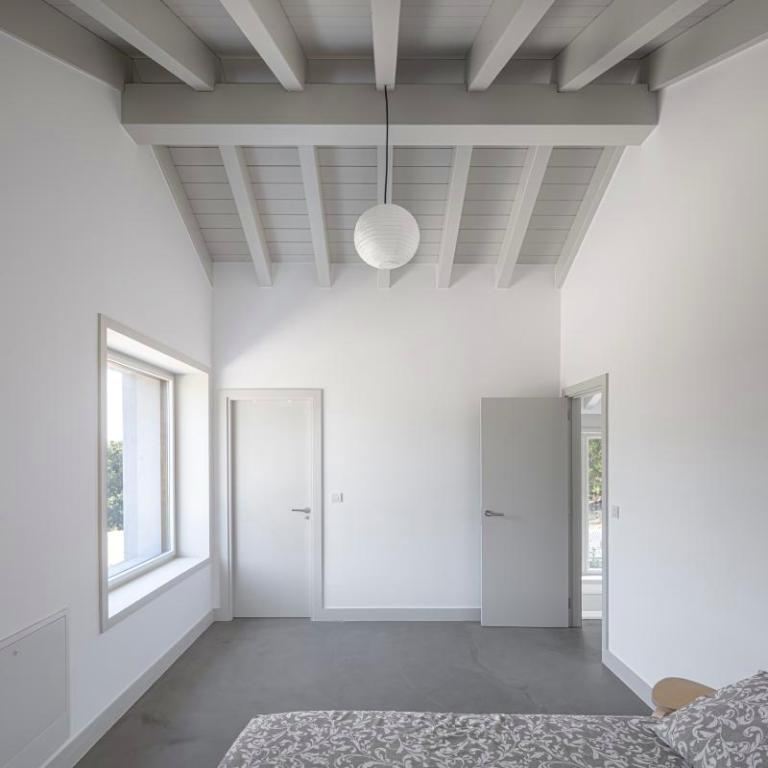white-walls: (5, 85, 751, 648)
